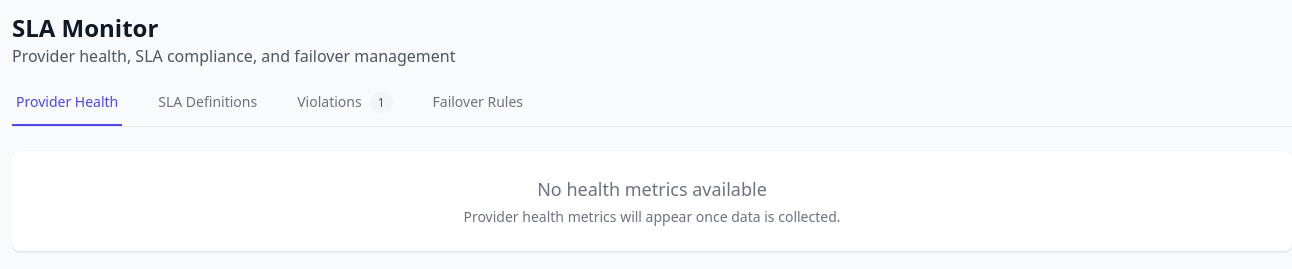
Test: SLAMonitoring › renders violation data in table
Step 1. Click the button "Violations1" → (345, 109), box [293,92,396,126]
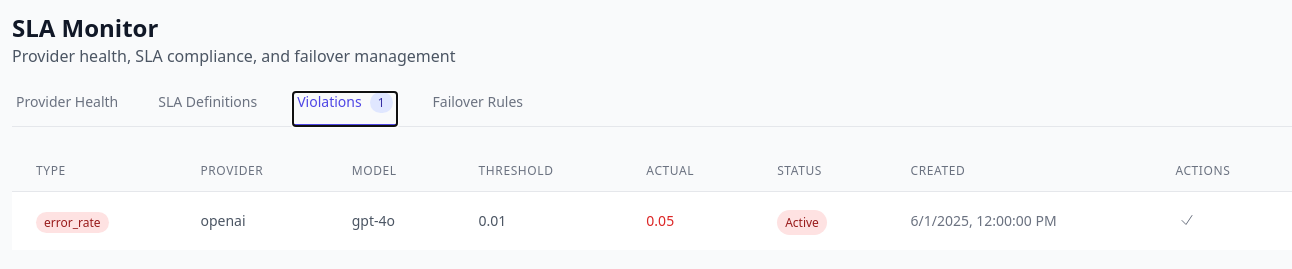
Now the text "error_rate" is shown, box [36,212,108,233]
Now the text "0.05" is shown, box [622,192,753,250]
Now the text "0.01" is shown, box [455,192,622,250]
